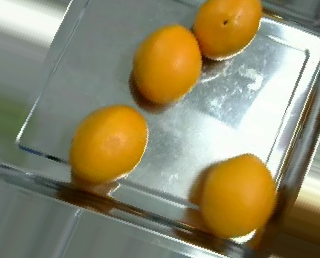Orange: (199, 153, 276, 237), (70, 103, 148, 184), (132, 23, 202, 103), (193, 1, 263, 60)
